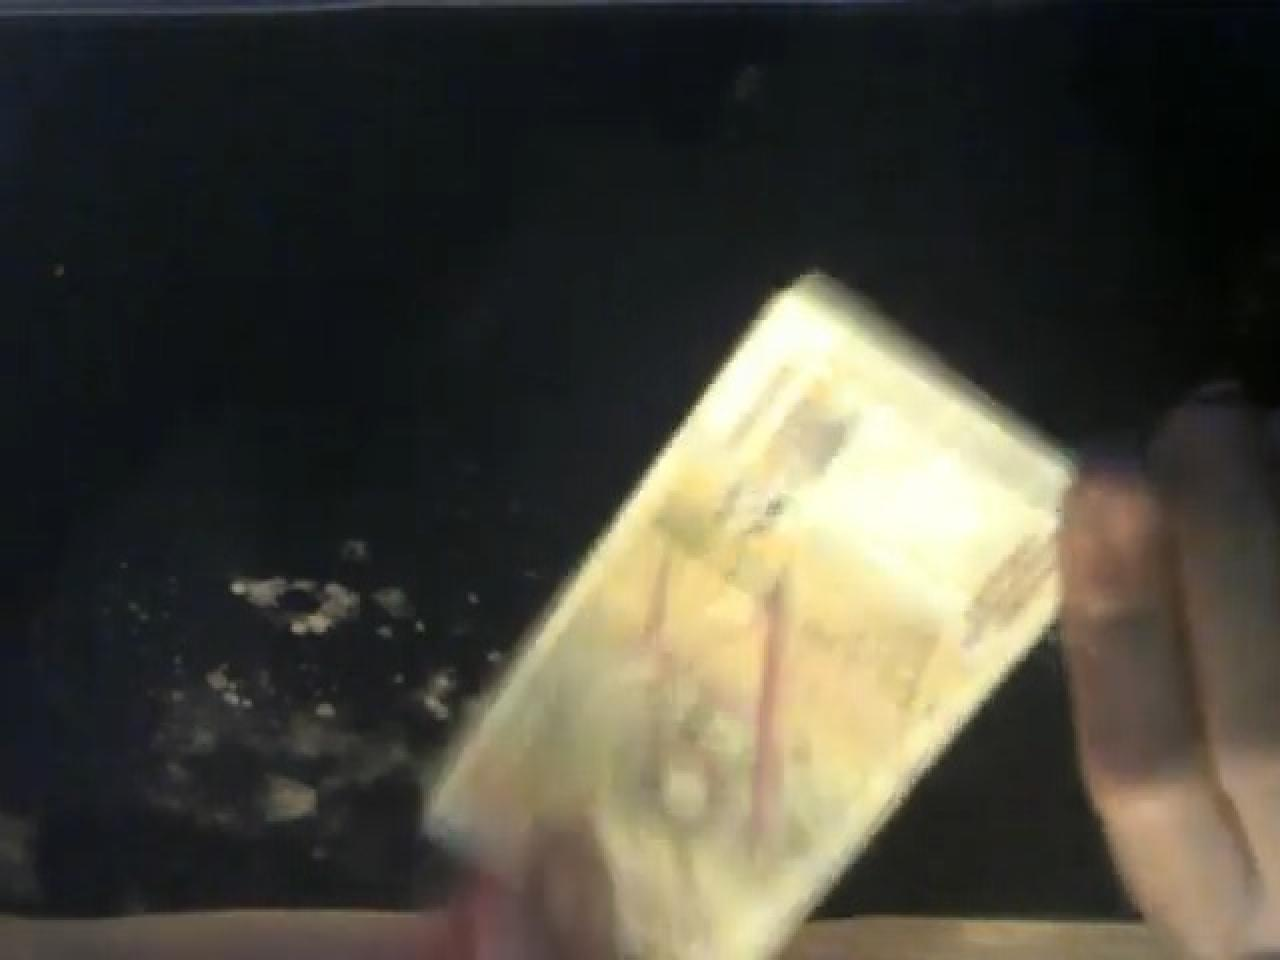10leva: (424, 269, 1084, 960)
